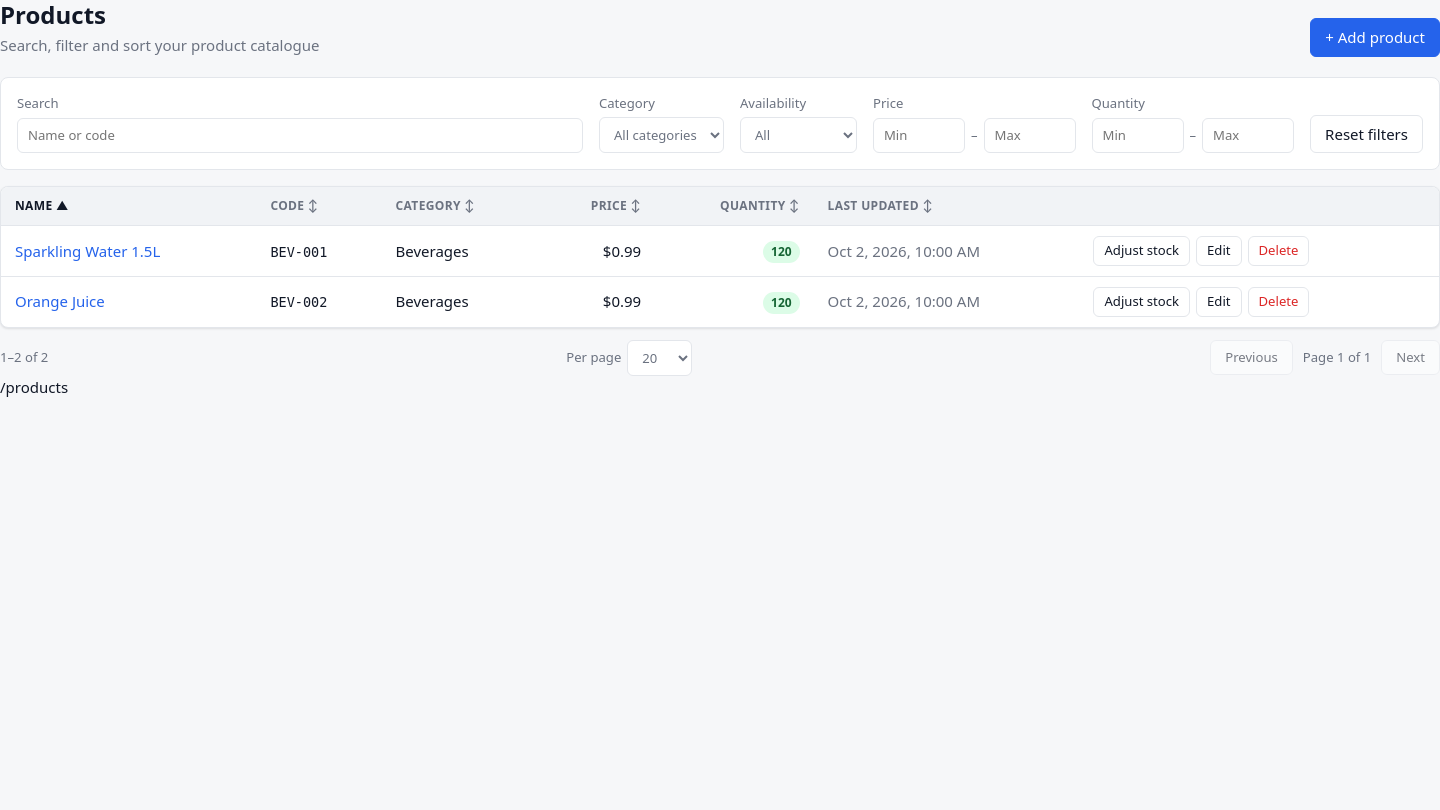
Test: ProductsPage › deletes a product after confirmation
Check: the link "Orange Juice" is shown, box [15,292,105,312]
Click the button "Delete" in the row of "Orange Juice" at {"x": 1278, "y": 302}, box [1248,287,1309,317]
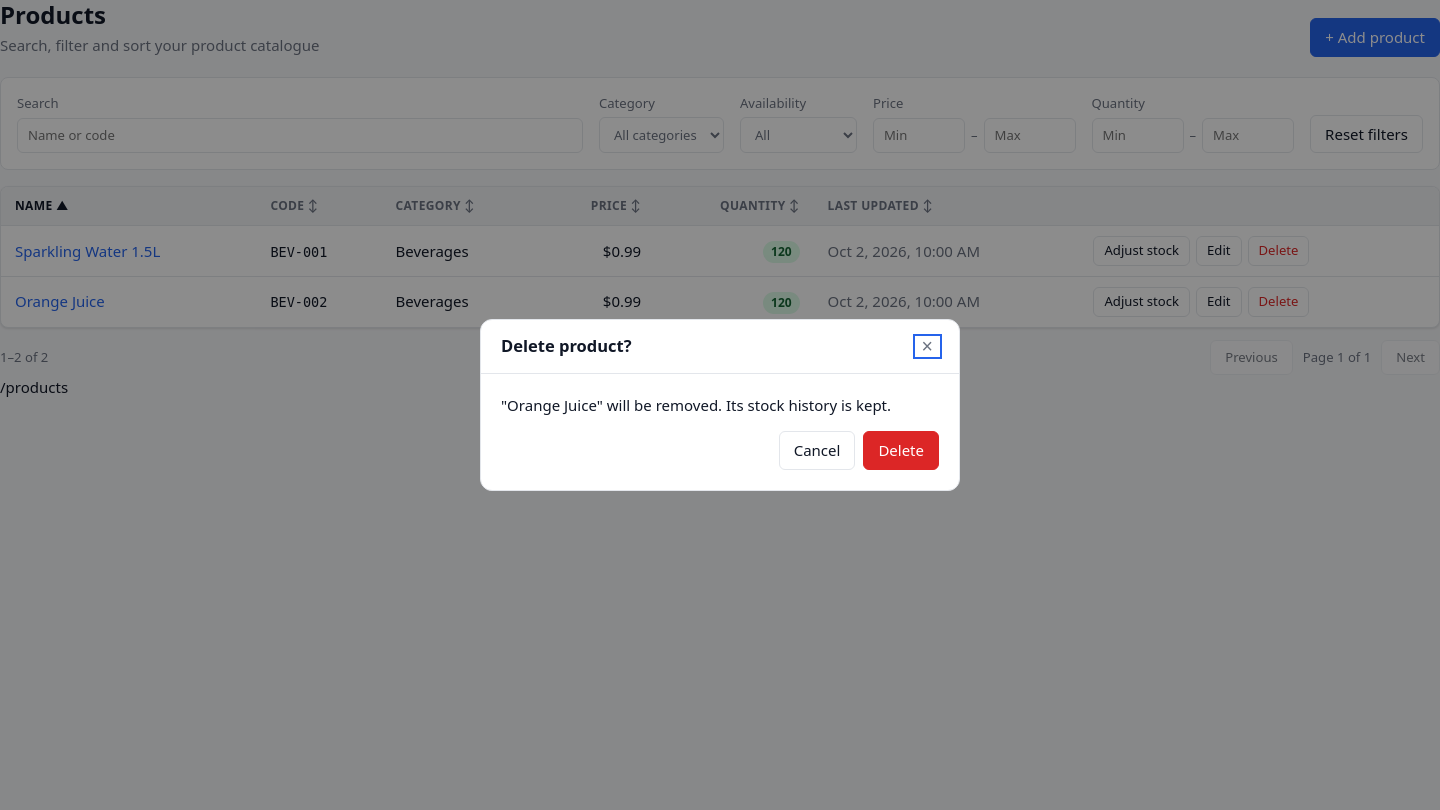
Check: the dialog "Delete product?" shows "\"Orange Juice\" will be removed", box [501,395,891,415]
Click the button "Delete" at {"x": 901, "y": 451}, box [863,431,939,470]
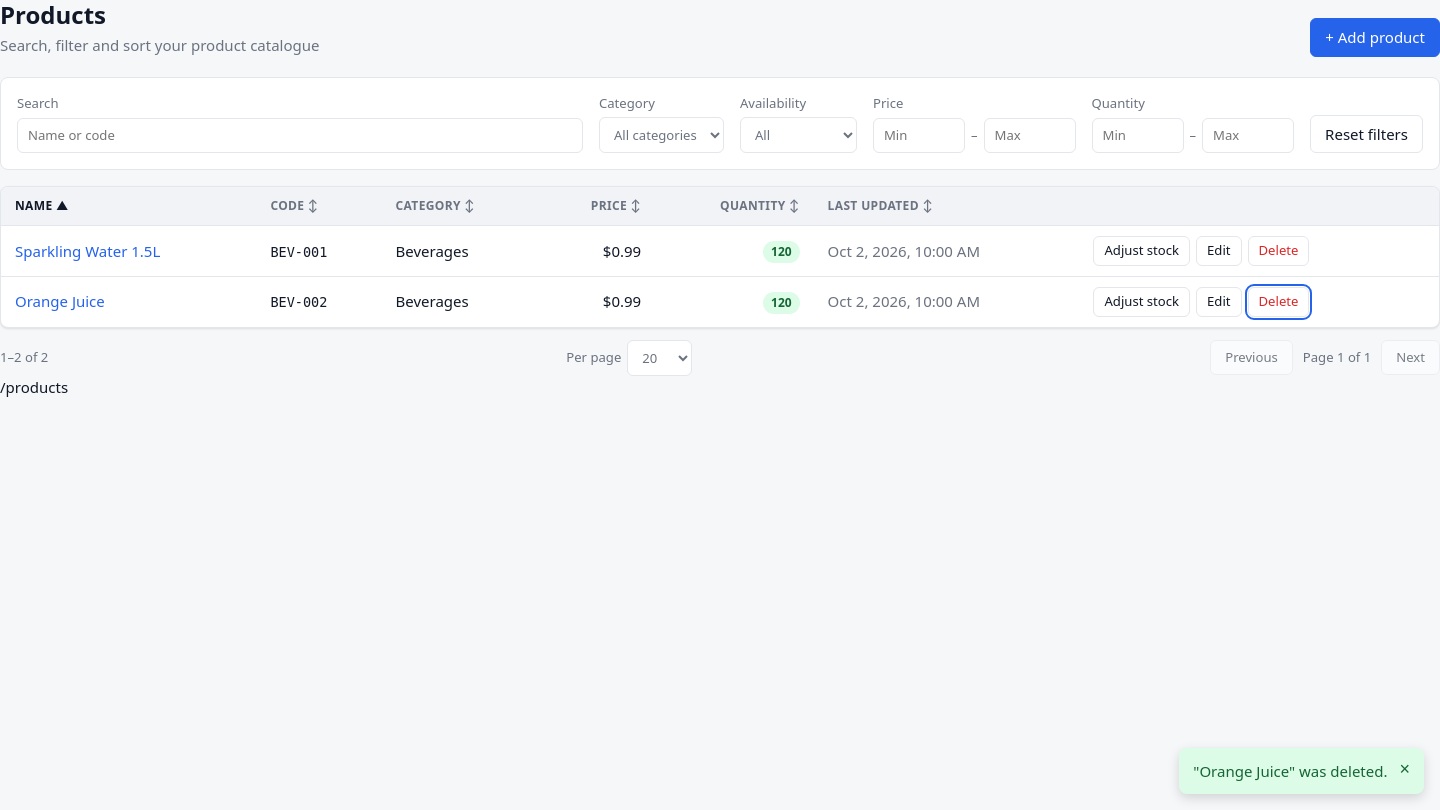
Check: the message shows "\"Orange Juice\" was deleted.", box [1193,760,1388,780]
